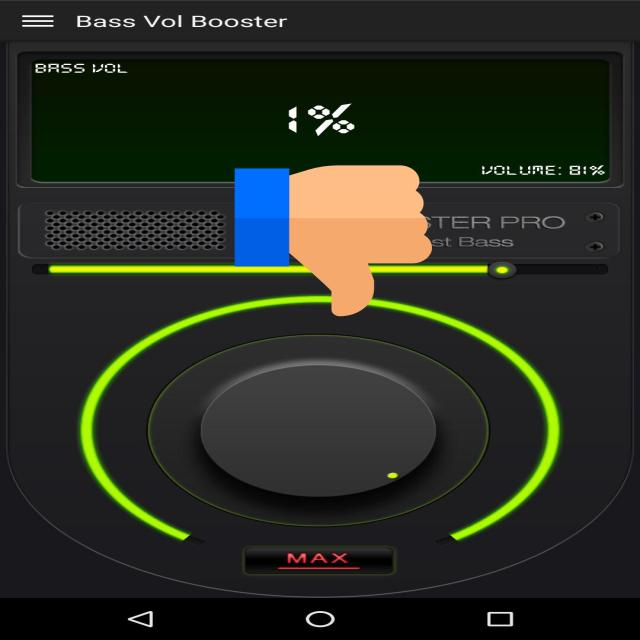obstruction: (235, 162, 432, 320)
